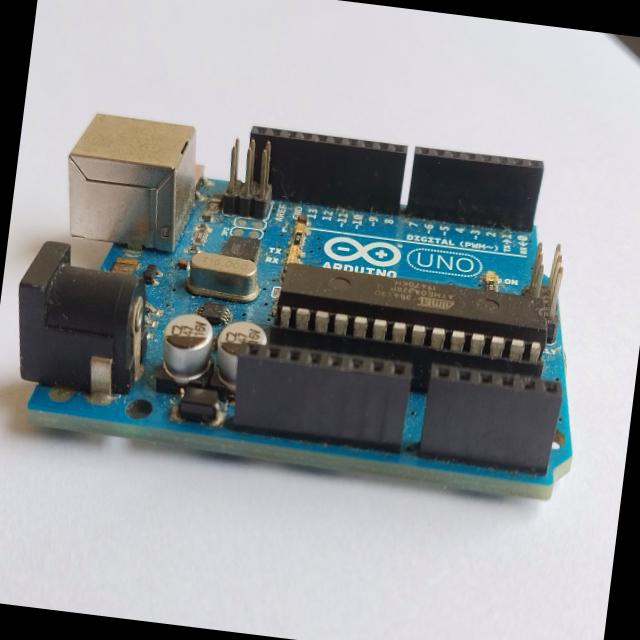arduino: (0, 41, 631, 527)
